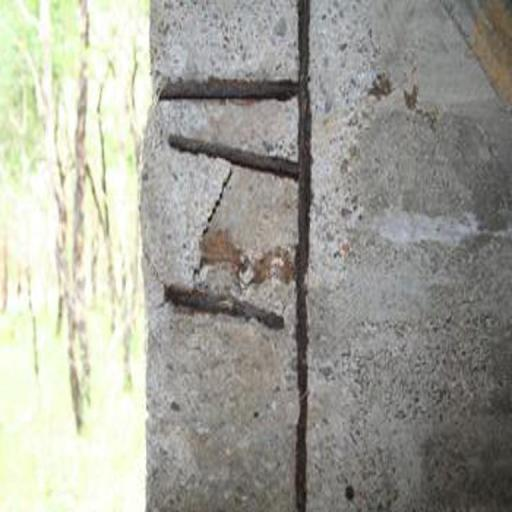spalling: (154, 66, 354, 344)
